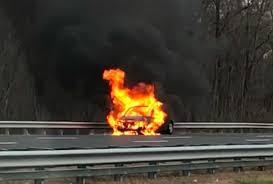fire: (100, 65, 166, 139)
